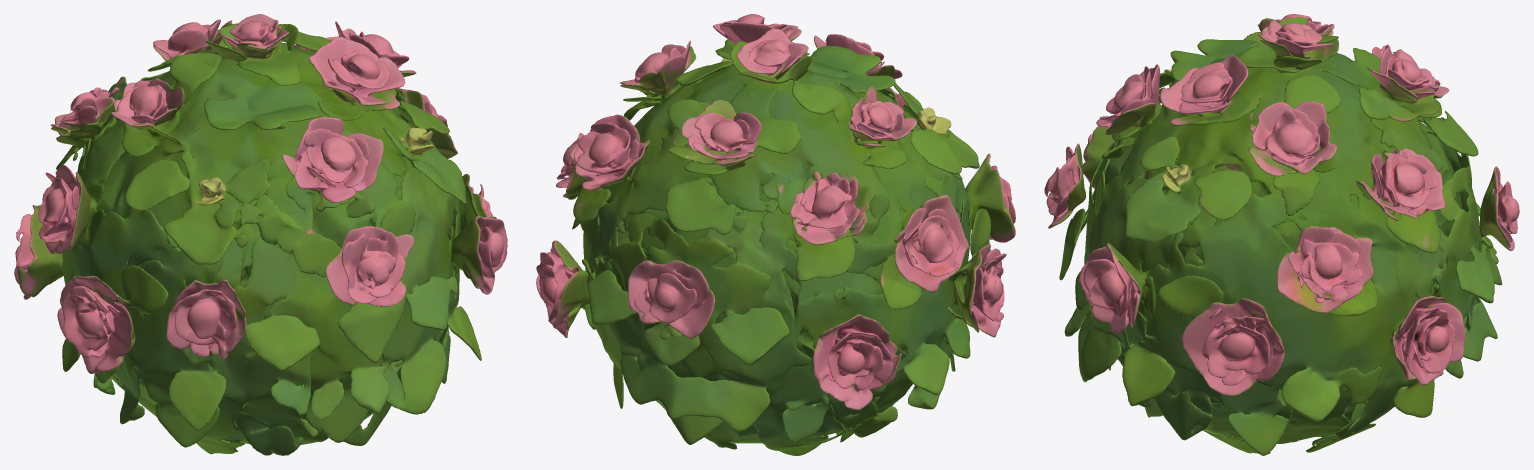
Rendered from rose_bush_pink.glb.
3 renders of one model, left to right at view 1: azimuth 30°, elevation 25°; view 2: azimuth 150°, elevation 25°; view 3: azimuth 270°, elevation 25°, orthographic. The views are drawn at different scales.
Visible parts, largest first — view 1: tripo_node_410747f9-538a-4aba-a53c-dd35e8883561; view 2: tripo_node_410747f9-538a-4aba-a53c-dd35e8883561; view 3: tripo_node_410747f9-538a-4aba-a53c-dd35e8883561.
Boxes of the visible parts, box(x1,y1,x2,y2) form: tripo_node_410747f9-538a-4aba-a53c-dd35e8883561: box(14, 14, 507, 455); tripo_node_410747f9-538a-4aba-a53c-dd35e8883561: box(536, 14, 1015, 455); tripo_node_410747f9-538a-4aba-a53c-dd35e8883561: box(1044, 14, 1519, 455).
Bounding box in the file's own units: 1 × 0.9568 × 0.992.
1 material, 1 textured.
